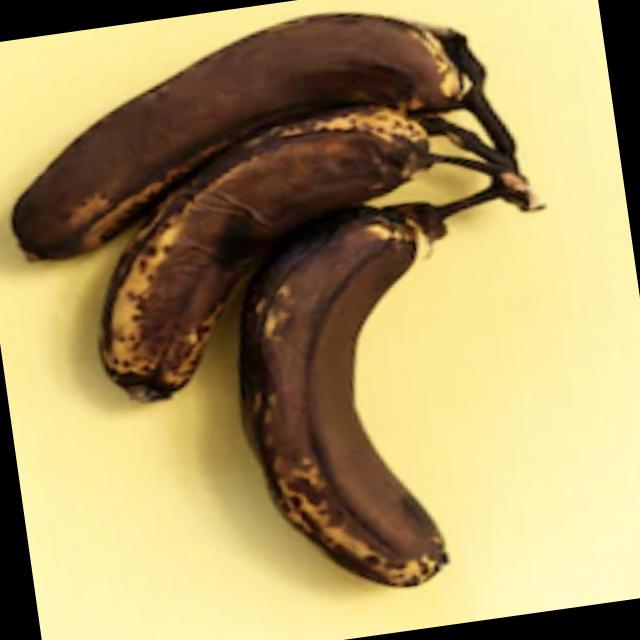rotten-banana: (214, 192, 526, 614), (0, 0, 507, 223), (70, 118, 473, 385)
